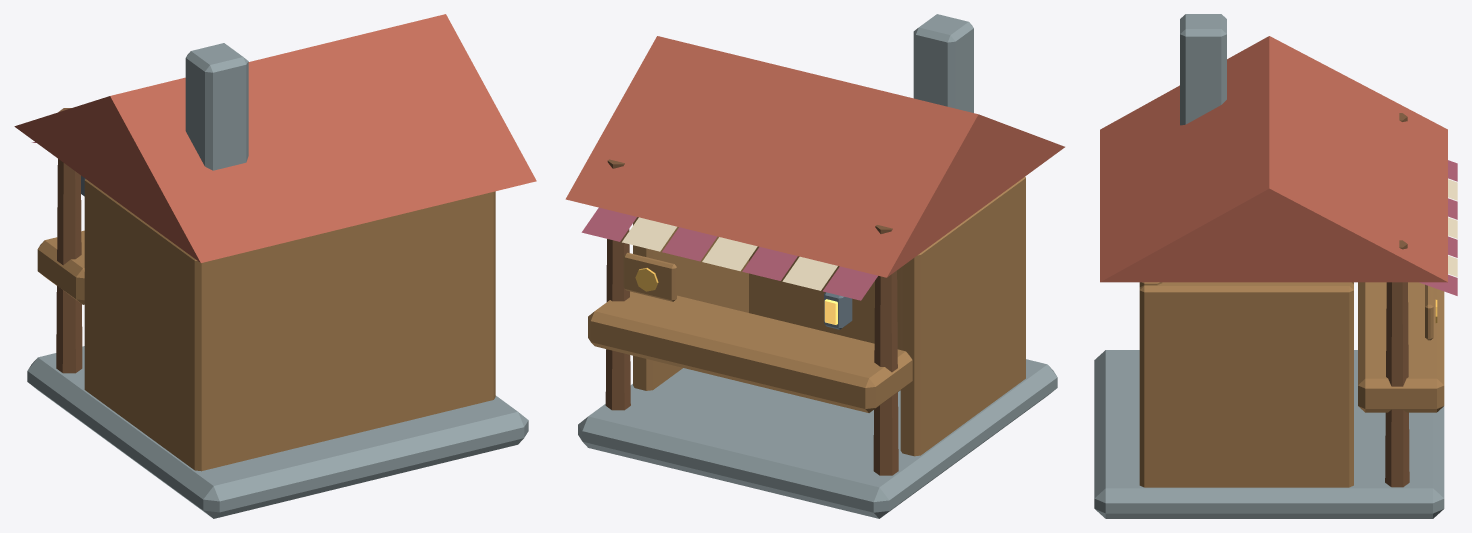
File: loja_mascate.glb
3 views of the same model, side by side, from view 1: azimuth 30°, elevation 25°; view 2: azimuth 150°, elevation 25°; view 3: azimuth 270°, elevation 25° (orthographic). The views are drawn at different scales.
Parts seen in each view (by area): view 1: bosque_loja_mascate; view 2: bosque_loja_mascate; view 3: bosque_loja_mascate.
Boxes of the visible parts, left/top/right/bottom form: bosque_loja_mascate: left=14, top=14, right=536, bottom=518; bosque_loja_mascate: left=565, top=14, right=1064, bottom=518; bosque_loja_mascate: left=1094, top=14, right=1457, bottom=518.
Bounding box in the file's own units: 1.92 × 2.26 × 1.93.
